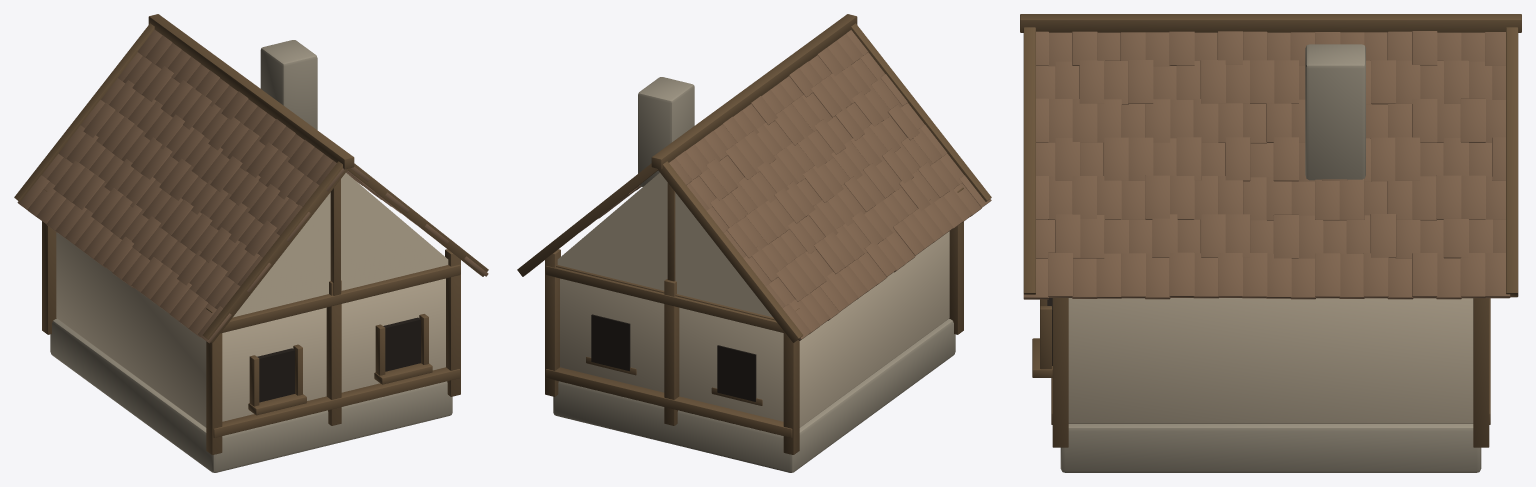
Rendered from painted_cottage.glb.
3 renders of one model, left to right at view 1: azimuth 30°, elevation 25°; view 2: azimuth 150°, elevation 25°; view 3: azimuth 270°, elevation 25°, orthographic. The views are drawn at different scales.
Visible parts, largest first — view 1: painted_cottage; view 2: painted_cottage; view 3: painted_cottage.
Part boxes in pixels (x1,y1,x2,y2): painted_cottage: [14, 14, 488, 472]; painted_cottage: [517, 14, 991, 472]; painted_cottage: [1020, 14, 1521, 472].
Bounding box in the file's own units: 5.15 × 5.25 × 6.2.
